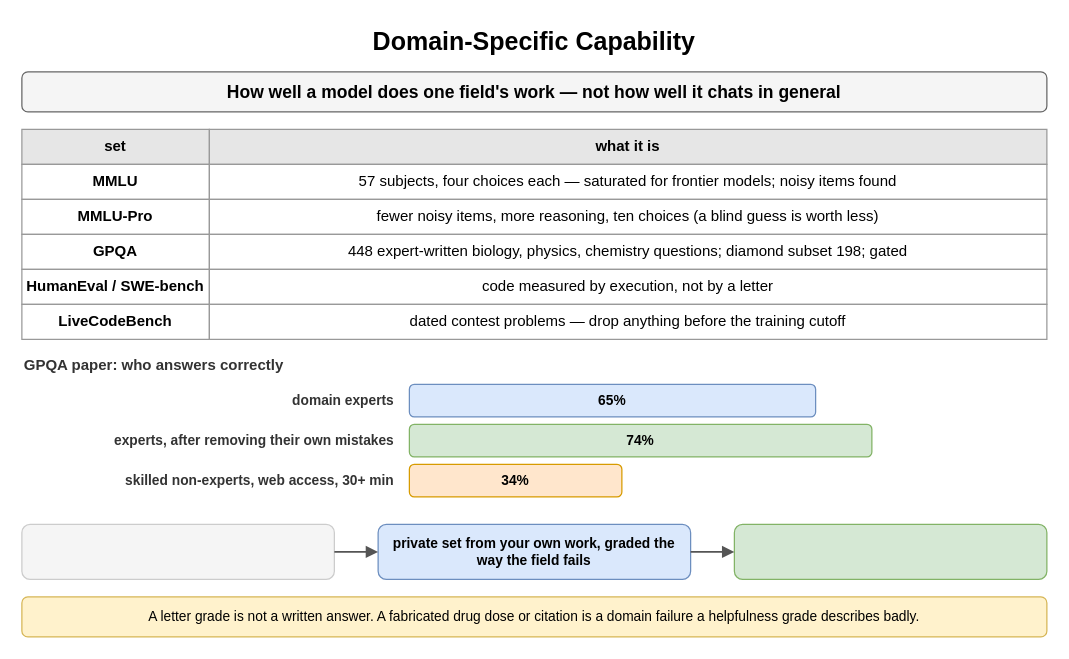
Image size: 1069x659. Some labels were removed from this diagram. The centre of each missing label's shape, as x and y in pixels:
public exam: reject models that cannot do the field: [177,551]
ship: [890,551]
